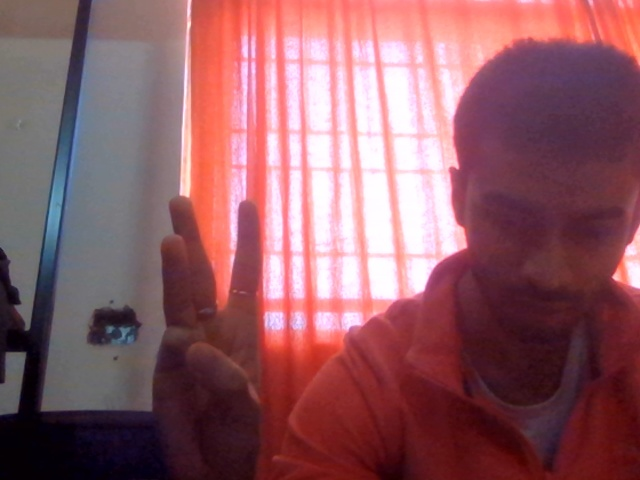W: (132, 163, 326, 480)
